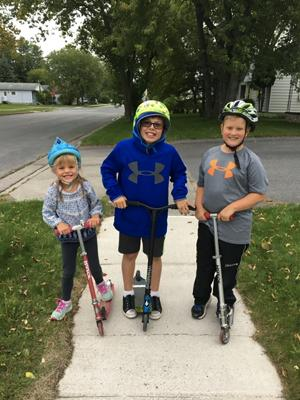With Helmet: (121, 97, 179, 154), (212, 95, 265, 156), (47, 130, 84, 188)
